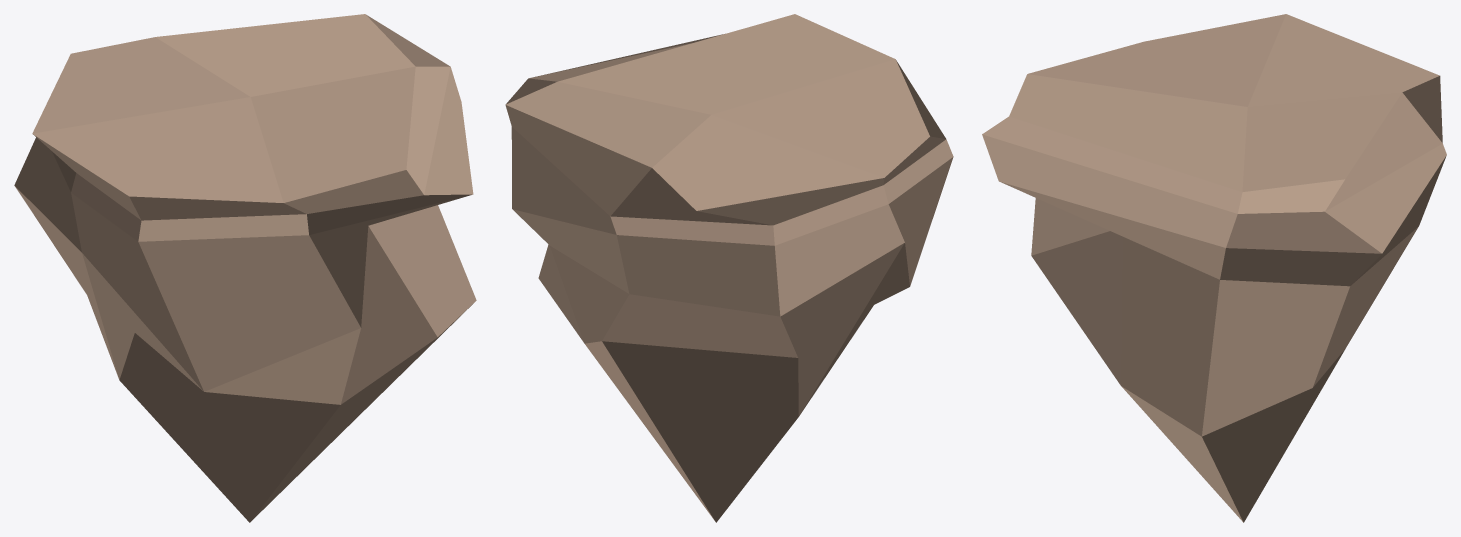
File: small_islands.fbx
The picture shows the model from 3 angles, left to right: view 1: azimuth 30°, elevation 25°; view 2: azimuth 150°, elevation 25°; view 3: azimuth 270°, elevation 25°; orthographic projection. The views are drawn at different scales.
Visible parts, largest first — view 1: little_island; view 2: little_island; view 3: little_island.
Part boxes in pixels (x1=…): little_island: x1=14, y1=14, x2=476, y2=522; little_island: x1=505, y1=14, x2=953, y2=522; little_island: x1=982, y1=14, x2=1446, y2=522.
Bounding box in the file's own units: 225 × 231 × 229.
